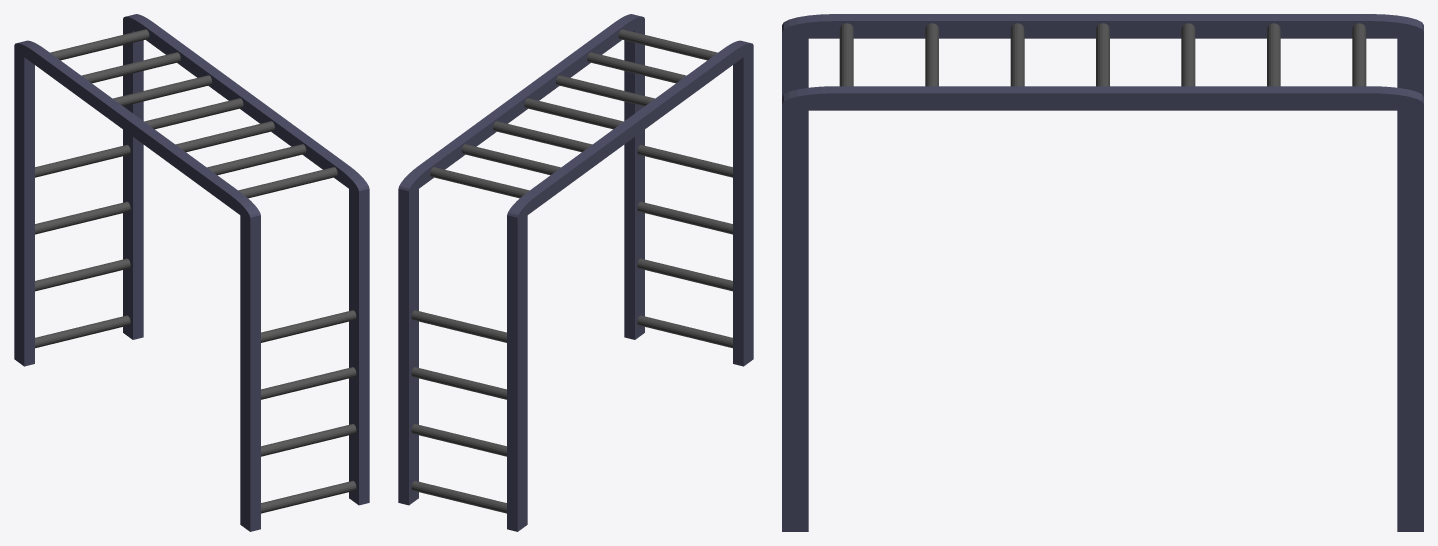
The model's file is MonkeyBar.fbx.
3 renders of one model, left to right at view 1: azimuth 30°, elevation 25°; view 2: azimuth 150°, elevation 25°; view 3: azimuth 270°, elevation 25°, orthographic. The views are drawn at different scales.
Parts seen in each view (by area): view 1: Cube.001, Cube, Cylinder.009, Cylinder.011, Cylinder.001, Cylinder.010, Cylinder.012, Cylinder, Cylinder.003, Cylinder.002, Cylinder.005, Cylinder.006 (+5 smaller); view 2: Cube.001, Cube, Cylinder, Cylinder.002, Cylinder.001, Cylinder.003, Cylinder.010, Cylinder.009, Cylinder.012, Cylinder.011, Cylinder.006, Cylinder.007 (+5 smaller); view 3: Cube, Cube.001, Cylinder.013, Cylinder.014, Cylinder.005, Cylinder.007, Cylinder.006, Cylinder.004, Cylinder.008.
Boxes of the visible parts, x1,y1,x2,y2 form: Cube.001: (14,40,260,531); Cube: (123,14,369,505); Cylinder.009: (35,315,130,348); Cylinder.011: (35,201,130,234); Cylinder.001: (261,424,356,456); Cylinder.010: (35,258,130,291); Cylinder.012: (35,145,130,177); Cylinder: (261,481,356,513); Cylinder.003: (261,310,356,342); Cylinder.002: (261,367,356,399); Cylinder.005: (175,121,274,152); Cylinder.006: (144,98,243,129); Cube.001: (507,40,753,531); Cube: (398,14,644,505); Cylinder: (637,315,732,348); Cylinder.002: (637,201,732,234); Cylinder.001: (637,258,732,291); Cylinder.003: (637,145,732,177); Cylinder.010: (411,424,506,456); Cylinder.009: (411,481,506,513); Cylinder.012: (411,310,506,342); Cylinder.011: (411,367,506,399); Cylinder.006: (524,98,623,129); Cylinder.007: (493,121,592,152); Cube: (782,86,1423,531); Cube.001: (782,14,1423,96); Cylinder.013: (1352,23,1366,86); Cylinder.014: (839,23,853,86); Cylinder.005: (1010,23,1024,86); Cylinder.007: (1181,23,1195,86); Cylinder.006: (1096,23,1109,86); Cylinder.004: (925,23,938,86); Cylinder.008: (1267,23,1280,86).
Bounding box in the file's own units: 43.91 × 113 × 150.
